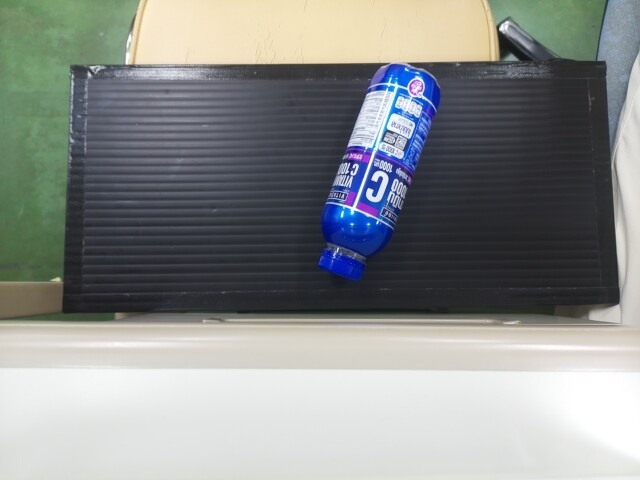plastic_bottle: (328, 62, 439, 273)
